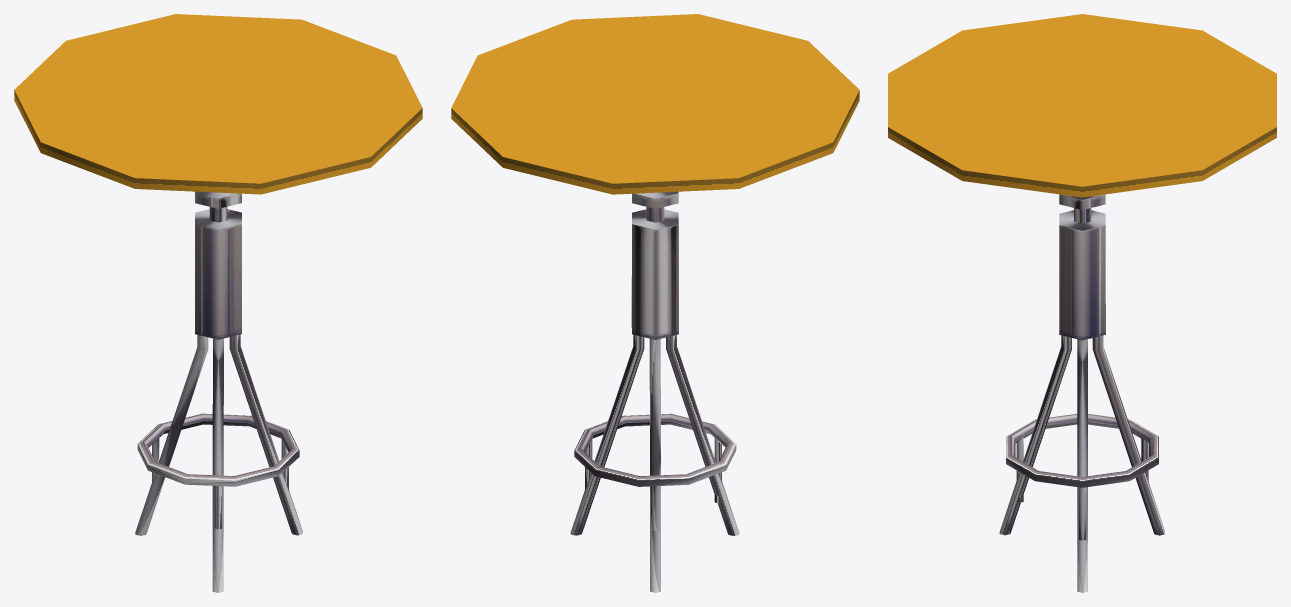
File: furni_0200718.FBX
The picture shows the model from 3 angles, left to right: view 1: azimuth 30°, elevation 25°; view 2: azimuth 150°, elevation 25°; view 3: azimuth 270°, elevation 25°; orthographic projection.
Visible parts, largest first — view 1: furni_0200718; view 2: furni_0200718; view 3: furni_0200718.
Part boxes in pixels (x1=…): furni_0200718: x1=14, y1=14, x2=422, y2=592; furni_0200718: x1=451, y1=14, x2=859, y2=592; furni_0200718: x1=888, y1=14, x2=1276, y2=592.
Bounding box in the file's own units: 98.61 × 120 × 93.78.
